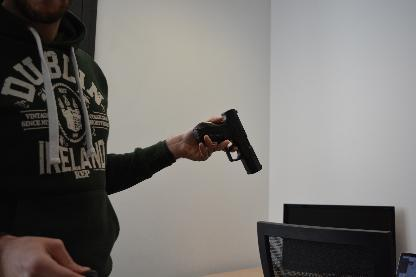pistol: (192, 107, 262, 174)
